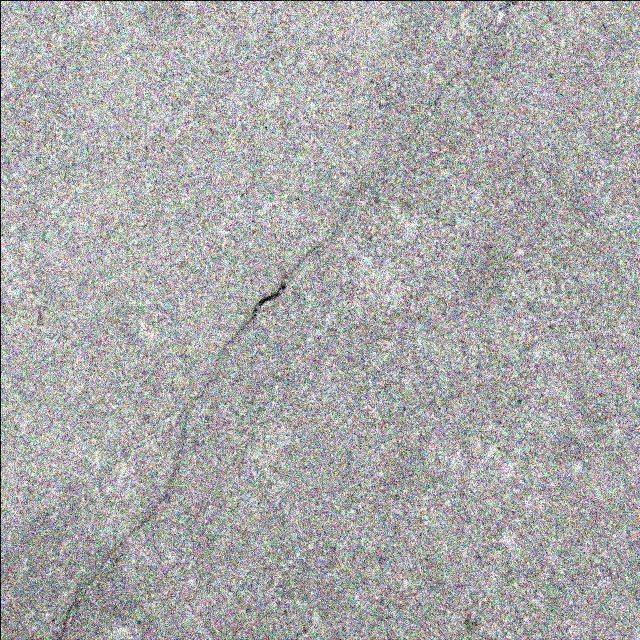SurfaceCrack: (8, 0, 639, 636)
